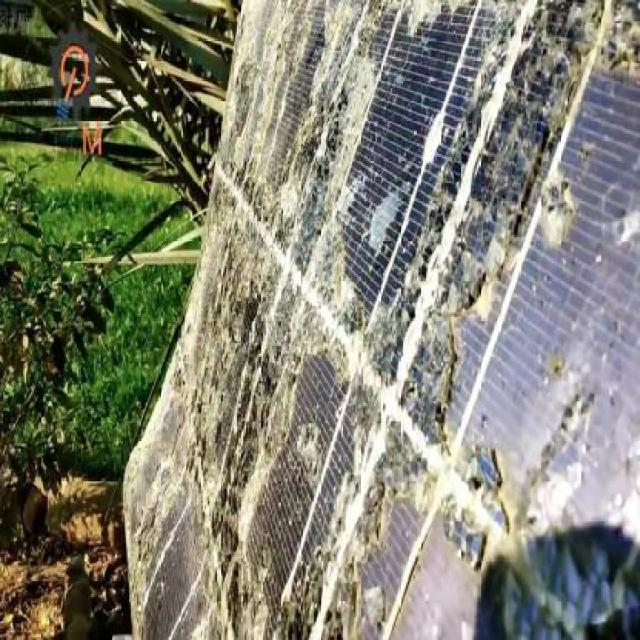cracked: (106, 1, 640, 640)
